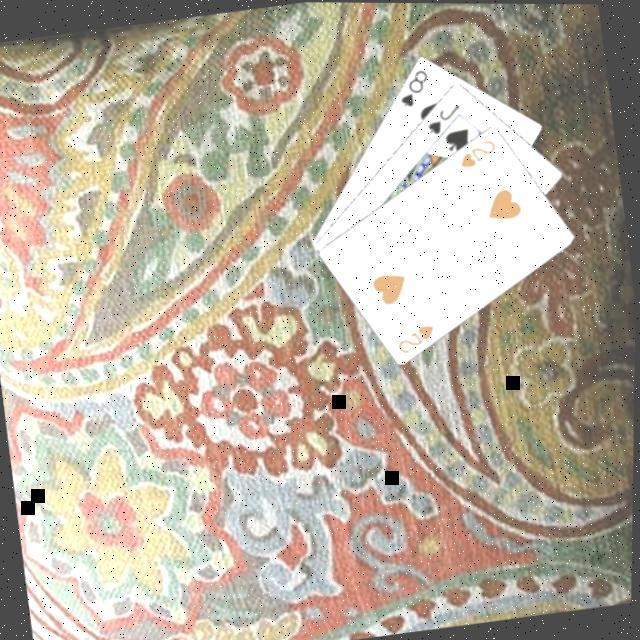2H: (394, 320, 442, 358), (456, 134, 502, 172)
8S: (394, 65, 437, 112)
JS: (423, 100, 468, 139)
